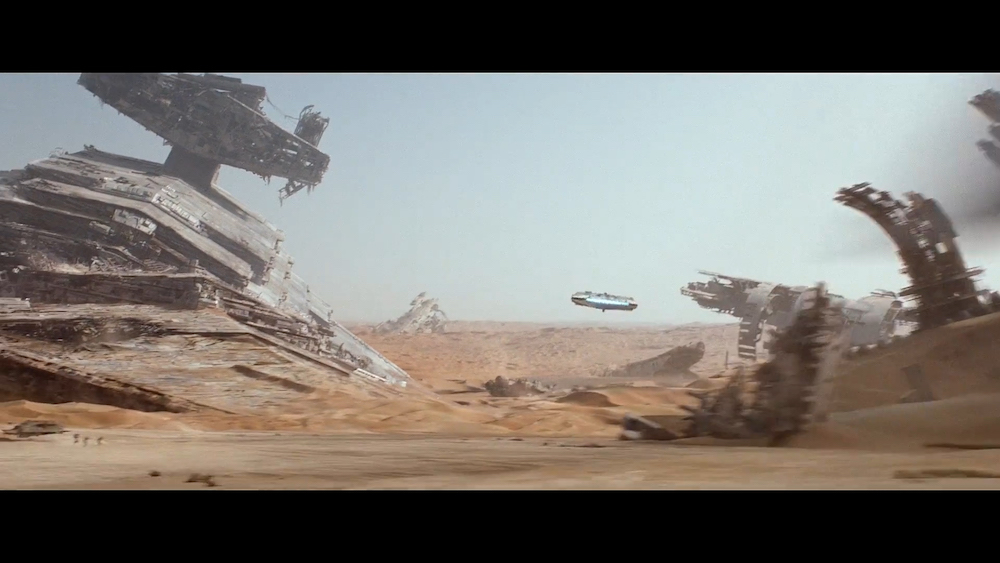Millennium Falcon: (572, 290, 639, 313)
